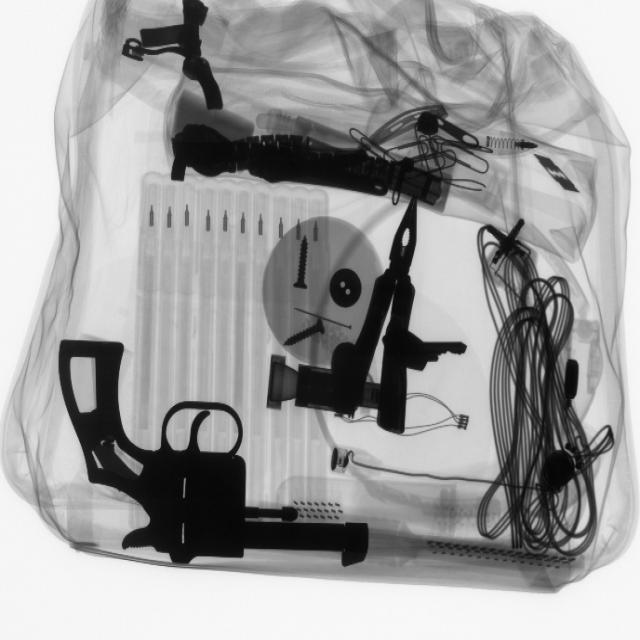BLADE: (536, 147, 581, 200)
GUN: (62, 334, 382, 561)
SCREW: (285, 232, 327, 300), (272, 309, 334, 355)
